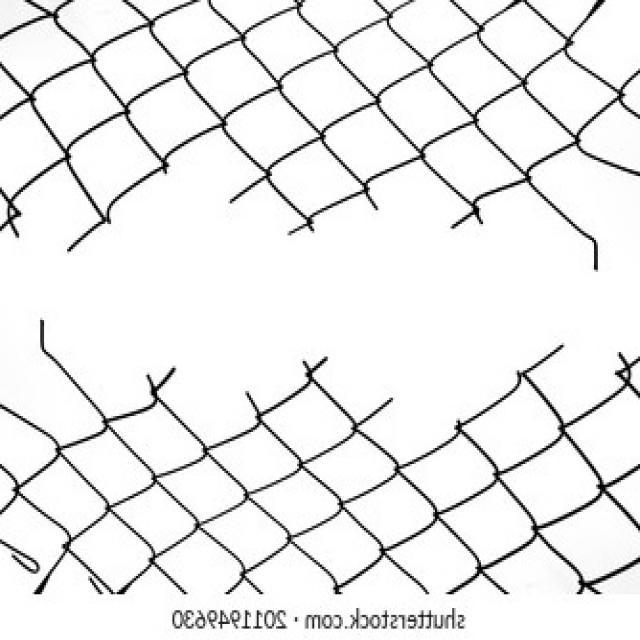fence line: (7, 195, 627, 394)
